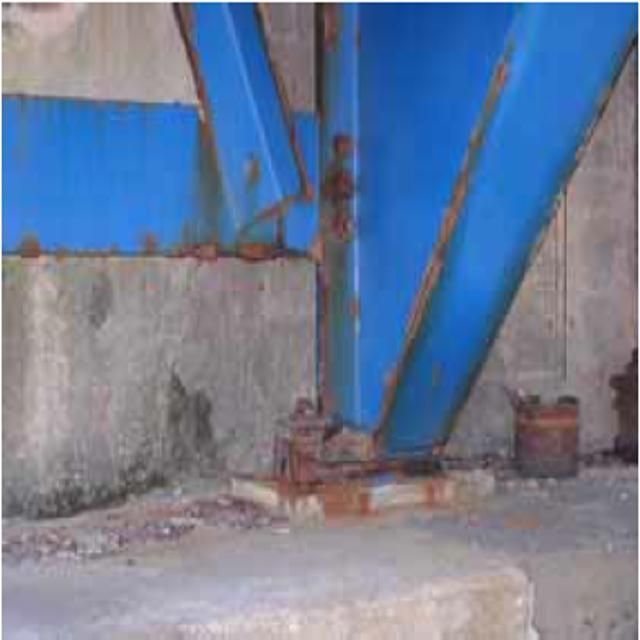corrosion: (213, 137, 471, 507)
